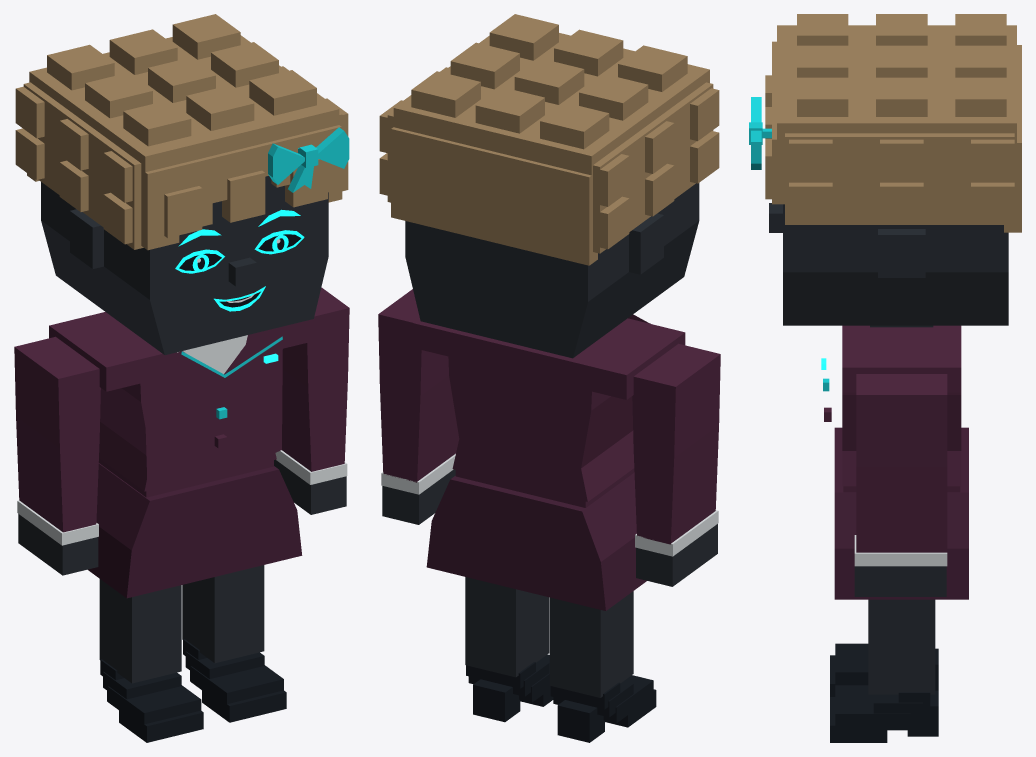
File: agent_female_base_curly.glb
3 renders of one model, left to right at view 1: azimuth 30°, elevation 25°; view 2: azimuth 150°, elevation 25°; view 3: azimuth 270°, elevation 25°, orthographic. The views are drawn at different scales.
Parts seen in each view (by area): view 1: char_hair_visual, char_torso_visual, char_head_visual, char_arm_negx_visual, char_leg_negx_visual, char_leg_posx_visual, char_arm_posx_visual, char_bow_visual, char_hand_negx_visual, char_hand_posx_visual, char_eye_posx_visual, char_eye_negx_visual; view 2: char_hair_visual, char_torso_visual, char_head_visual, char_arm_negx_visual, char_arm_posx_visual, char_leg_negx_visual, char_leg_posx_visual, char_hand_negx_visual, char_hand_posx_visual; view 3: char_hair_visual, char_head_visual, char_arm_posx_visual, char_torso_visual, char_leg_posx_visual, char_hand_posx_visual, char_leg_negx_visual, char_bow_visual.
Part boxes in pixels (bbox=[...]): char_hair_visual: bbox=[15, 14, 348, 250]; char_torso_visual: bbox=[49, 312, 314, 598]; char_head_visual: bbox=[41, 176, 328, 354]; char_arm_negx_visual: bbox=[14, 336, 100, 545]; char_leg_negx_visual: bbox=[99, 579, 203, 742]; char_leg_posx_visual: bbox=[182, 565, 286, 722]; char_arm_posx_visual: bbox=[275, 287, 349, 484]; char_bow_visual: bbox=[268, 127, 349, 192]; char_hand_negx_visual: bbox=[18, 514, 98, 575]; char_hand_posx_visual: bbox=[274, 459, 346, 514]; char_eye_posx_visual: bbox=[254, 230, 304, 254]; char_eye_negx_visual: bbox=[175, 249, 224, 273]; char_hair_visual: bbox=[379, 14, 719, 265]; char_torso_visual: bbox=[413, 314, 685, 610]; char_head_visual: bbox=[405, 183, 699, 358]; char_arm_negx_visual: bbox=[632, 343, 720, 556]; char_arm_posx_visual: bbox=[378, 289, 459, 494]; char_leg_negx_visual: bbox=[549, 591, 656, 742]; char_leg_posx_visual: bbox=[465, 577, 553, 722]; char_hand_negx_visual: bbox=[636, 524, 717, 586]; char_hand_posx_visual: bbox=[382, 469, 455, 524]; char_hair_visual: bbox=[765, 14, 1021, 232]; char_head_visual: bbox=[769, 203, 1008, 327]; char_arm_posx_visual: bbox=[854, 374, 947, 566]; char_torso_visual: bbox=[823, 325, 968, 599]; char_leg_posx_visual: bbox=[830, 599, 938, 742]; char_hand_posx_visual: bbox=[854, 566, 946, 596]; char_leg_negx_visual: bbox=[830, 643, 938, 696]; char_bow_visual: bbox=[749, 97, 771, 169].
Size of the model in its own units: 0.88 by 1.82 by 0.6895.
